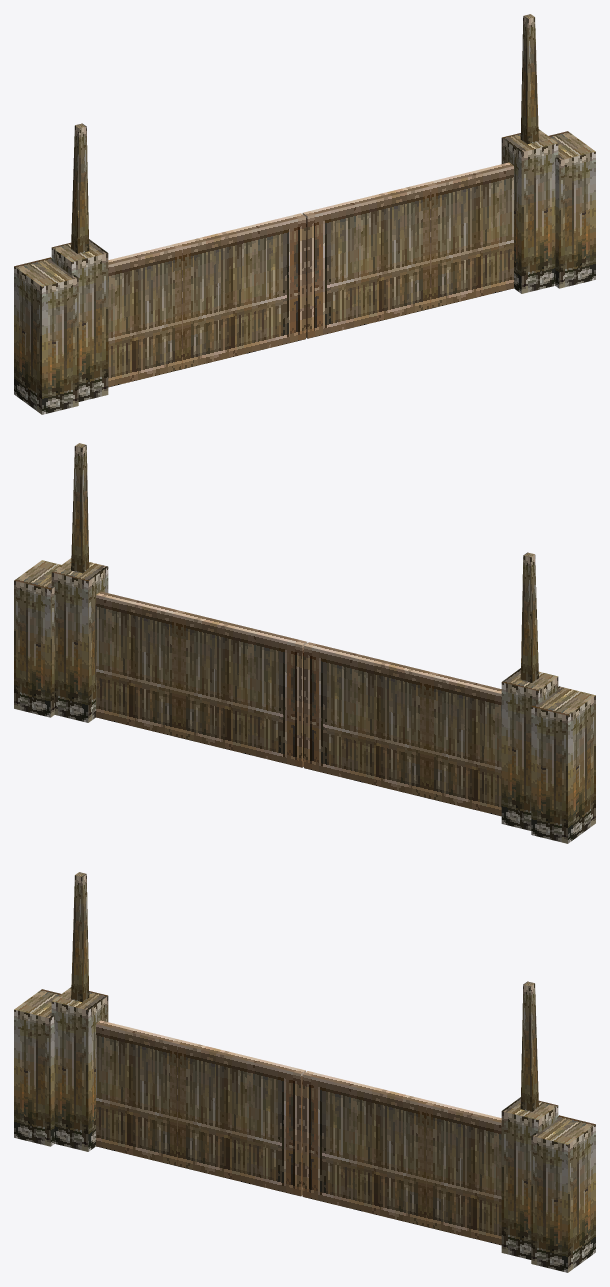
File: gate_base.glb
The picture shows the model from 3 angles, top to bottom: view 1: azimuth 30°, elevation 25°; view 2: azimuth 150°, elevation 25°; view 3: azimuth 330°, elevation 25°; orthographic projection.
Visible parts, largest first — view 1: MeshRoot; view 2: MeshRoot; view 3: MeshRoot.
Boxes of the visible parts, x1,y1,x2,y2 form: MeshRoot: (14,14,595,414); MeshRoot: (14,443,595,843); MeshRoot: (14,872,595,1272).
Bounding box in the file's own units: 11.31 × 5.19 × 0.9922.
1 material, 1 textured.
